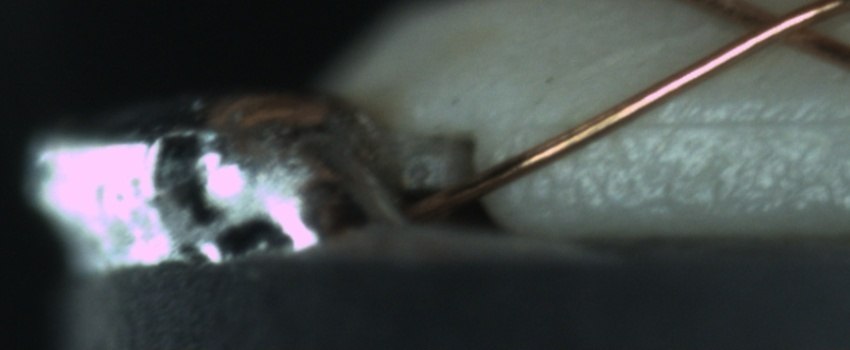CL: (711, 2, 841, 57)
DL: (528, 93, 850, 153)
